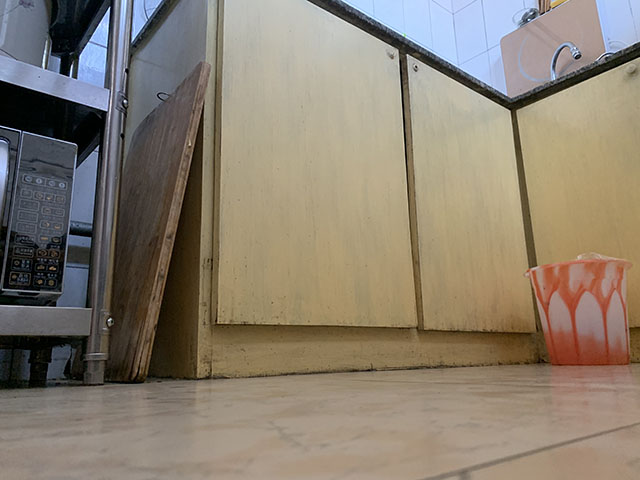cabinet: (105, 1, 640, 383)
trashcan: (523, 250, 634, 368)
